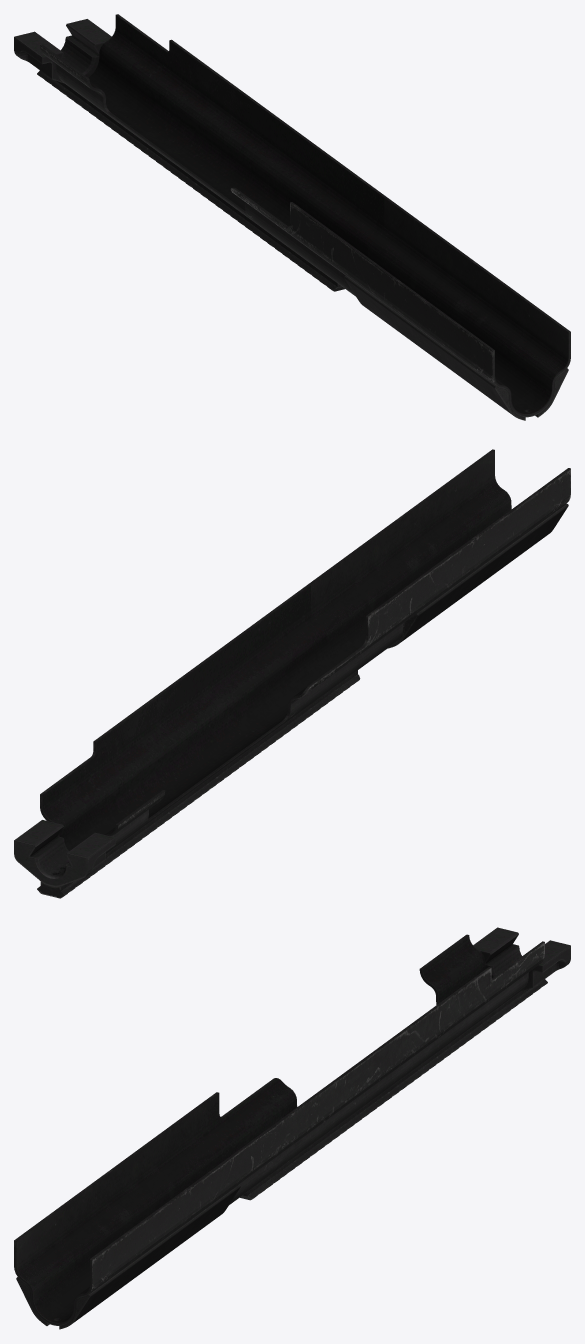
The picture shows the model from 3 angles, top to bottom: view 1: azimuth 30°, elevation 25°; view 2: azimuth 150°, elevation 25°; view 3: azimuth 330°, elevation 25°; orthographic projection.
Parts seen in each view (by area): view 1: TW_67d416e19bd76ef20f0e743b_PZ_Import; view 2: TW_67d416e19bd76ef20f0e743b_PZ_Import; view 3: TW_67d416e19bd76ef20f0e743b_PZ_Import.
Boxes of the visible parts, box(x1,y1,x2,y2) form: TW_67d416e19bd76ef20f0e743b_PZ_Import: box(14, 14, 570, 420); TW_67d416e19bd76ef20f0e743b_PZ_Import: box(14, 449, 570, 898); TW_67d416e19bd76ef20f0e743b_PZ_Import: box(14, 927, 570, 1329).
Bounding box in the file's own units: 0.0352 × 0.3743 × 0.0366.
1 material, 1 textured.
